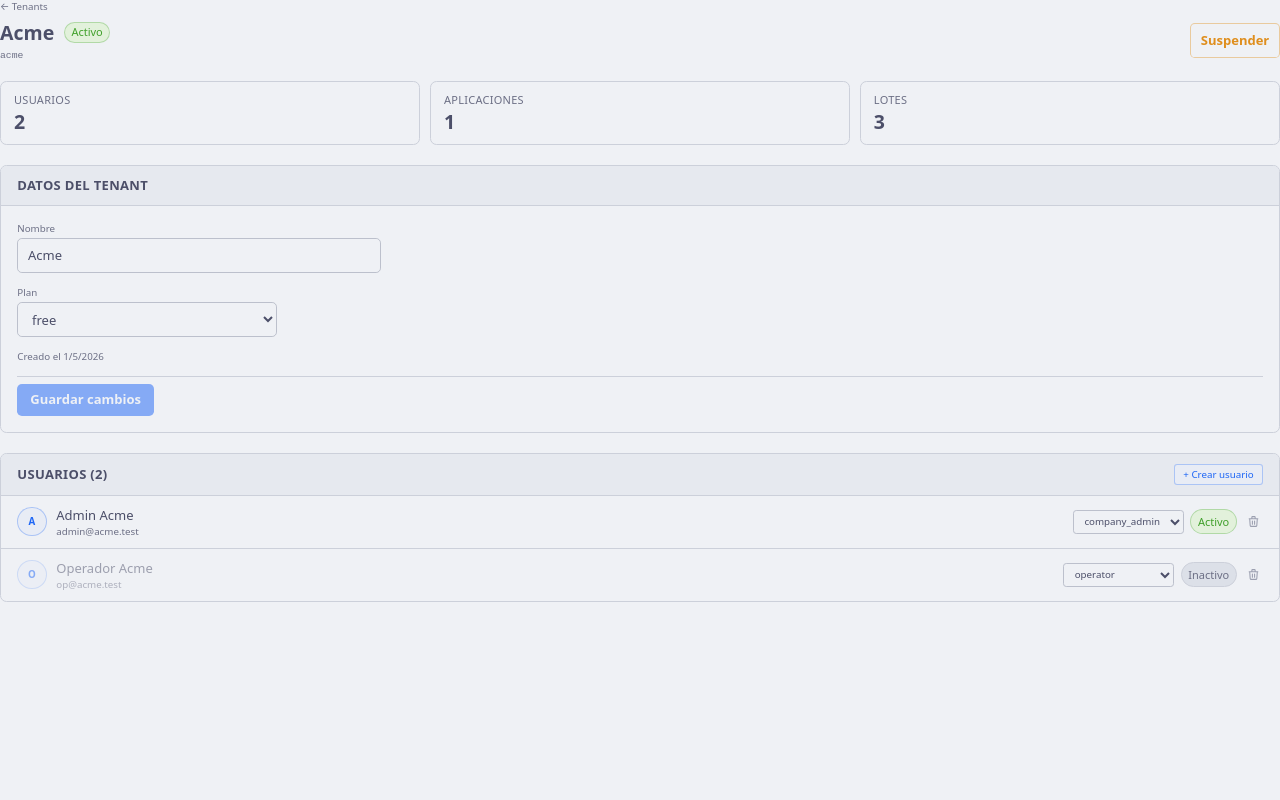
Test case: TenantDetailView — crear usuario › error API en creación se muestra dentro del modal y no cierra
Click the button with test id "open-create-user" at x=1218, y=474, box [1174,464,1263,485]
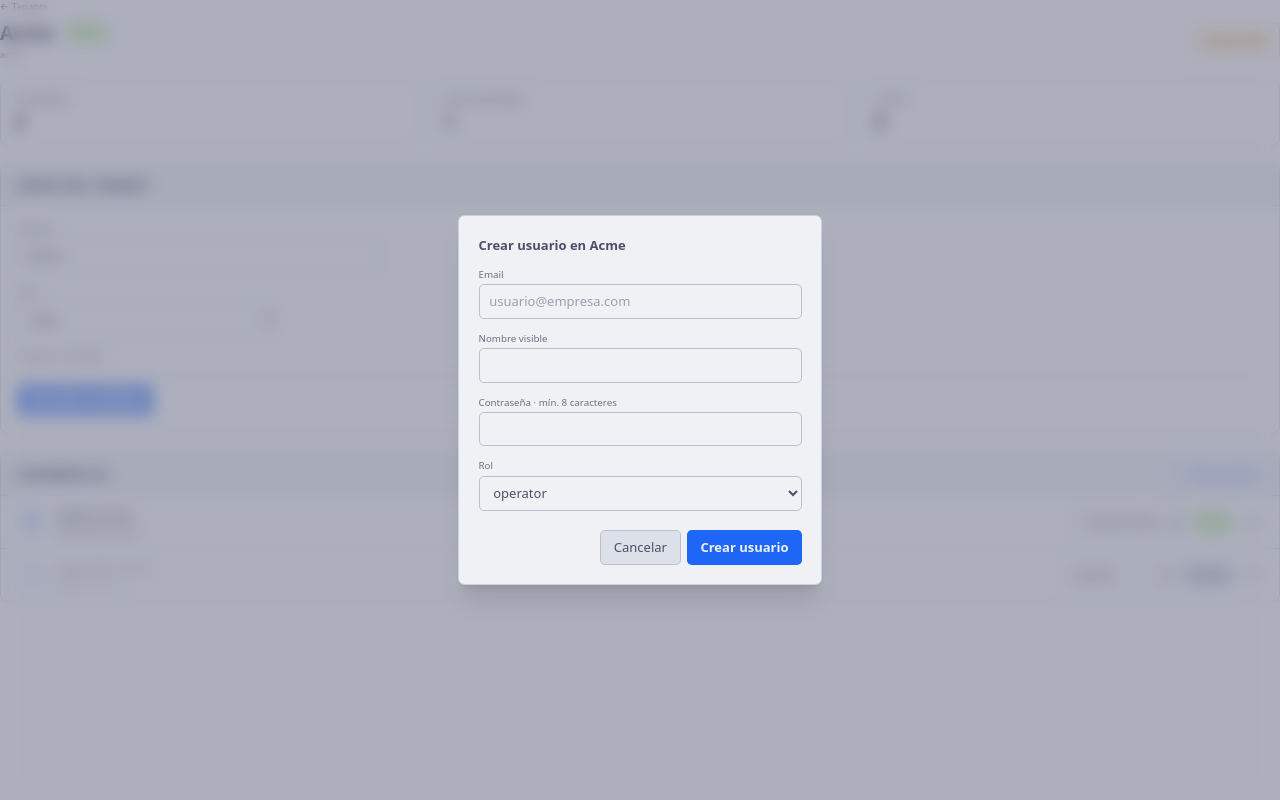
Type "dup@acme.test" into the field with test id "new-user-email" at x=640, y=302, box [478,284,802,319]
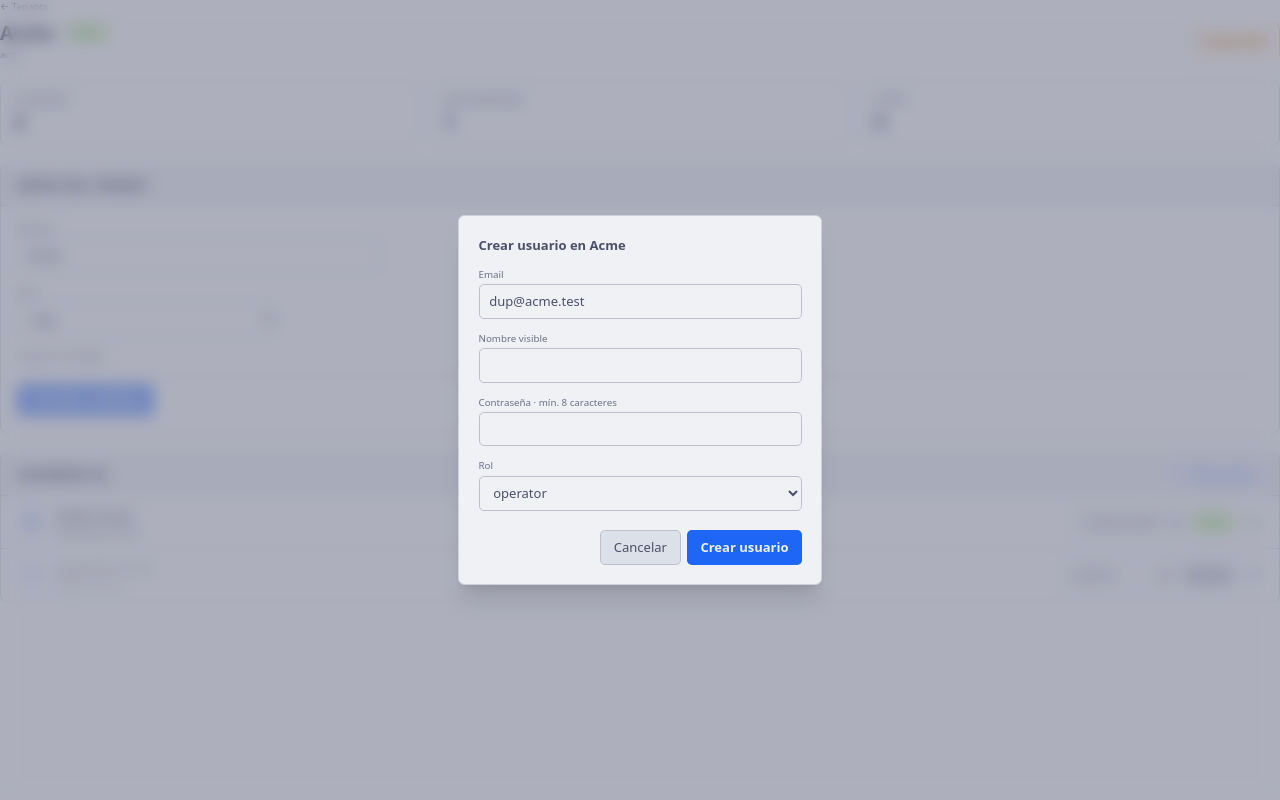
Type "Dup" into the field with test id "new-user-display-name" at x=640, y=365, box [478,348,802,382]
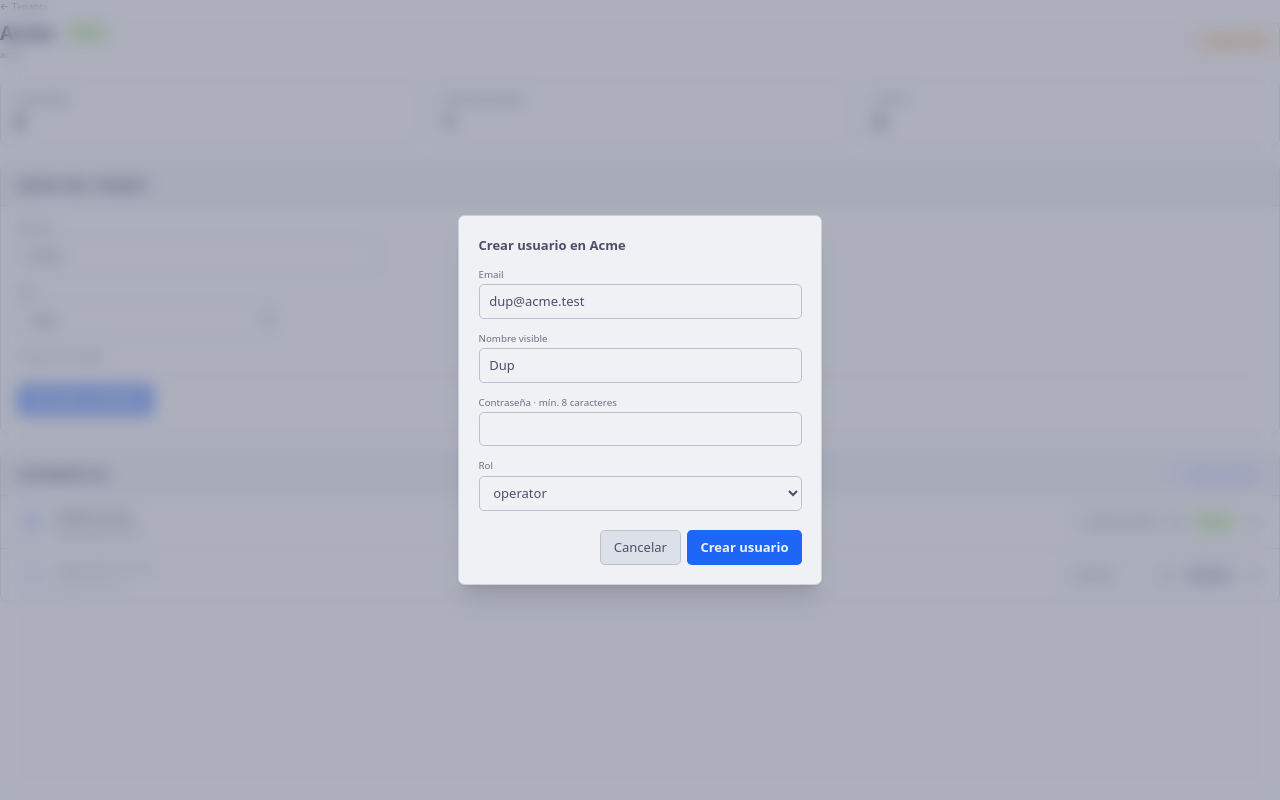
Type "secret123" into the password field with test id "new-user-password" at x=640, y=429, box [478,412,802,446]
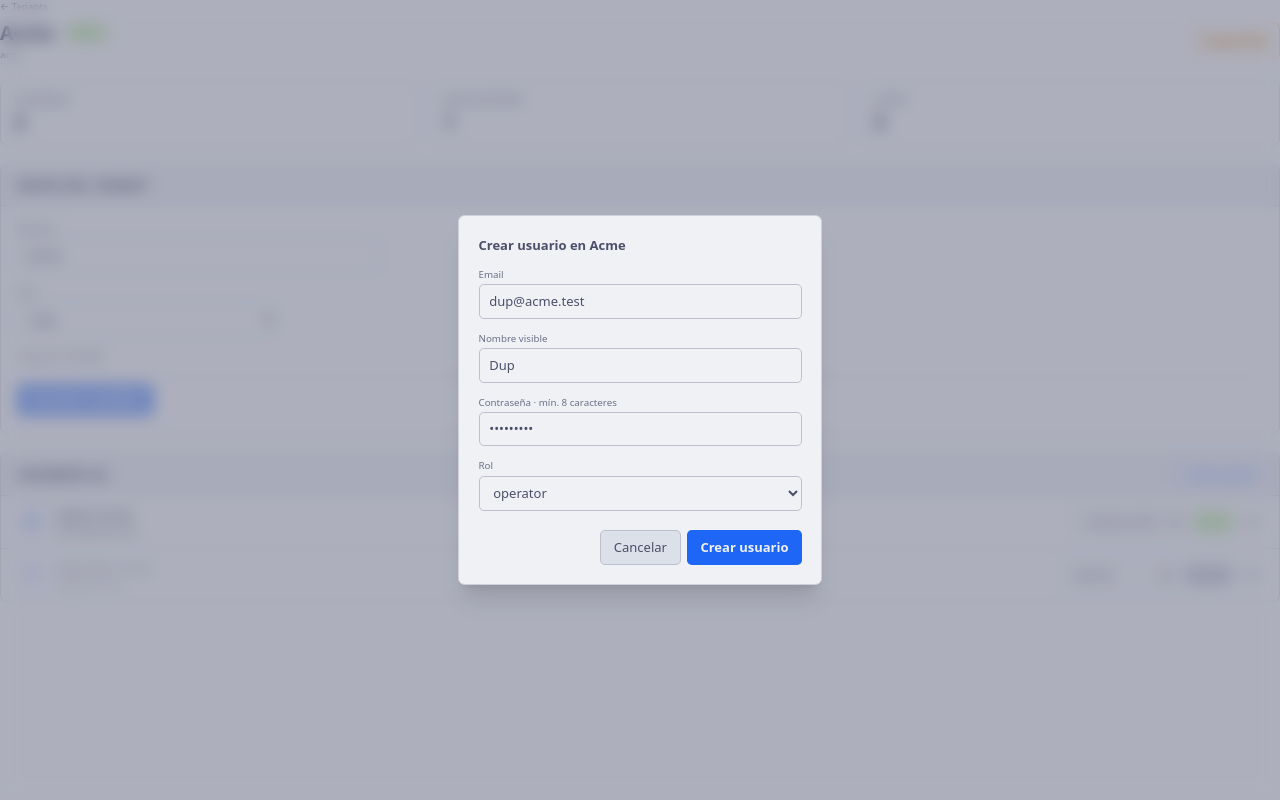
Submit the form, box [458,215,822,585]
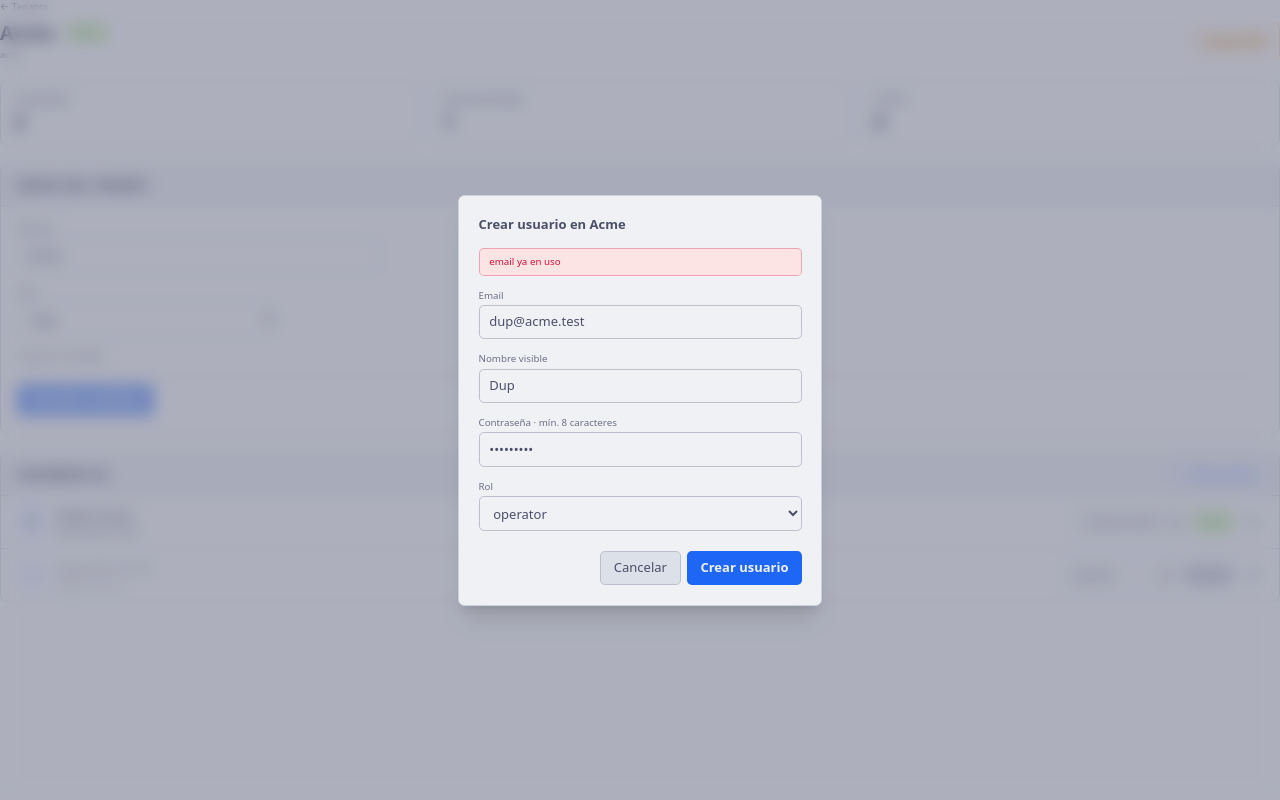
Expected: the dialog with test id "create-user-modal" is shown
Expected: the text "email ya en uso" is shown, [478,248,802,276]
